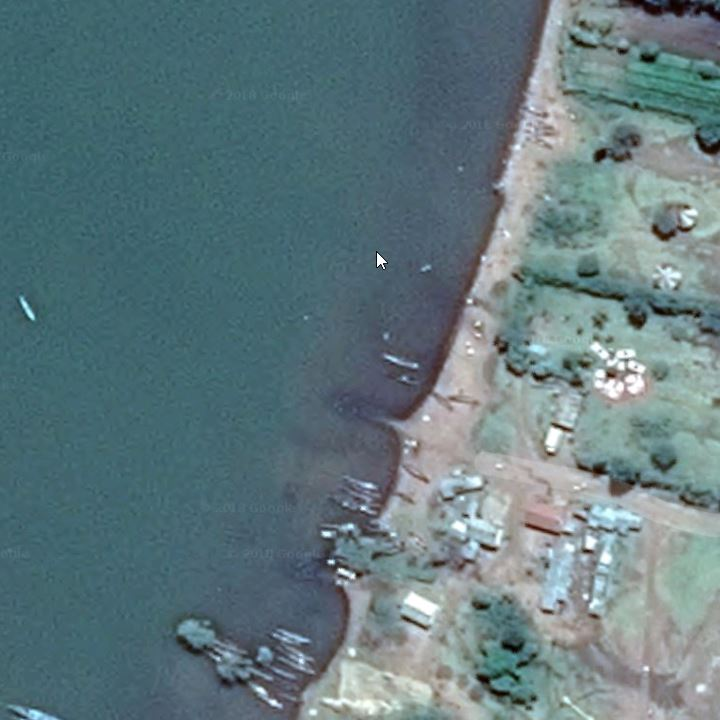boat: (245, 683, 287, 712), (372, 350, 427, 372), (12, 289, 41, 328), (395, 457, 428, 488), (271, 645, 315, 667), (272, 656, 317, 676), (332, 495, 380, 513), (381, 369, 424, 389), (386, 483, 420, 508), (425, 385, 459, 410), (279, 641, 319, 662), (265, 630, 303, 651), (211, 637, 255, 655), (518, 113, 560, 131), (446, 391, 485, 410), (342, 475, 384, 492), (275, 626, 314, 644), (521, 137, 560, 155), (265, 661, 298, 682), (513, 102, 553, 119), (521, 127, 561, 143), (207, 643, 237, 660), (271, 689, 302, 705), (245, 666, 275, 682), (344, 489, 382, 501), (200, 650, 228, 664)
